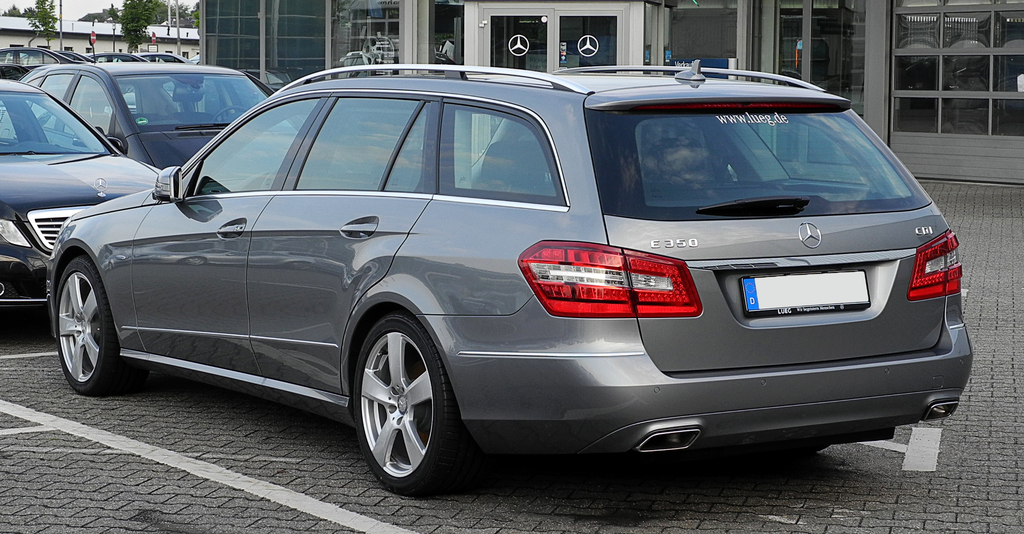Car: (48, 65, 984, 491), (0, 81, 167, 310), (25, 55, 284, 172), (0, 45, 78, 87)
